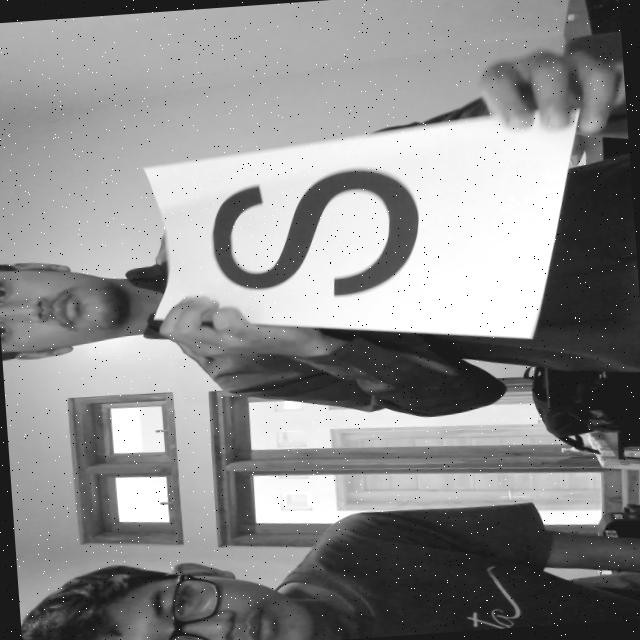s: (183, 149, 443, 312)
